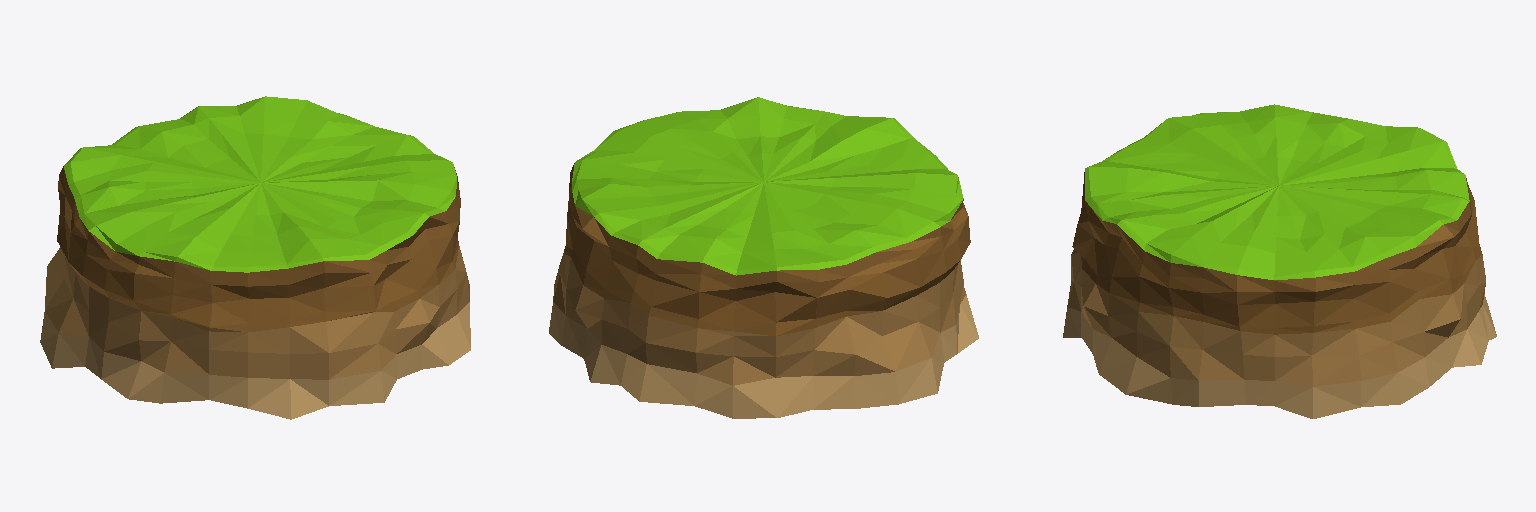
3 renders of one model, left to right at view 1: azimuth 30°, elevation 25°; view 2: azimuth 150°, elevation 25°; view 3: azimuth 270°, elevation 25°, orthographic.
Parts seen in each view (by area): view 1: Cylinder; view 2: Cylinder; view 3: Cylinder.
Boxes of the visible parts, box(x1,y1,x2,y2) form: Cylinder: box(40, 96, 470, 419); Cylinder: box(549, 97, 978, 418); Cylinder: box(1063, 104, 1496, 418).
Bounding box in the file's own units: 5.57 × 2.26 × 5.61.
1 materials, 1 textured.